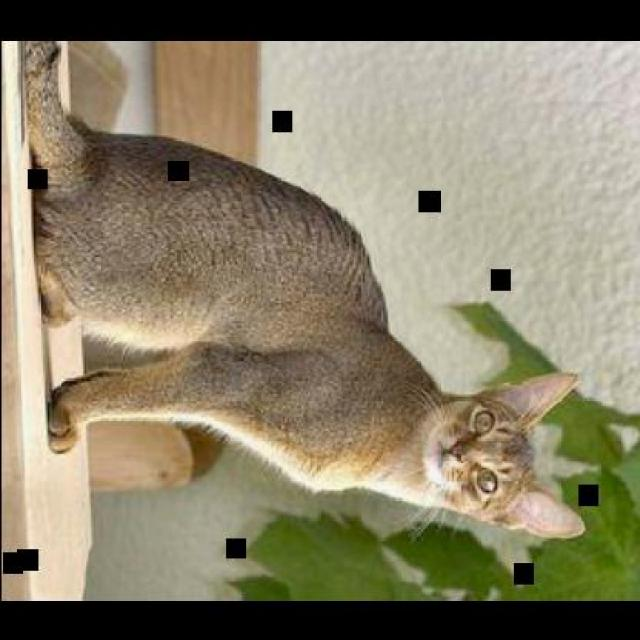unauthorized: (20, 39, 586, 543)
